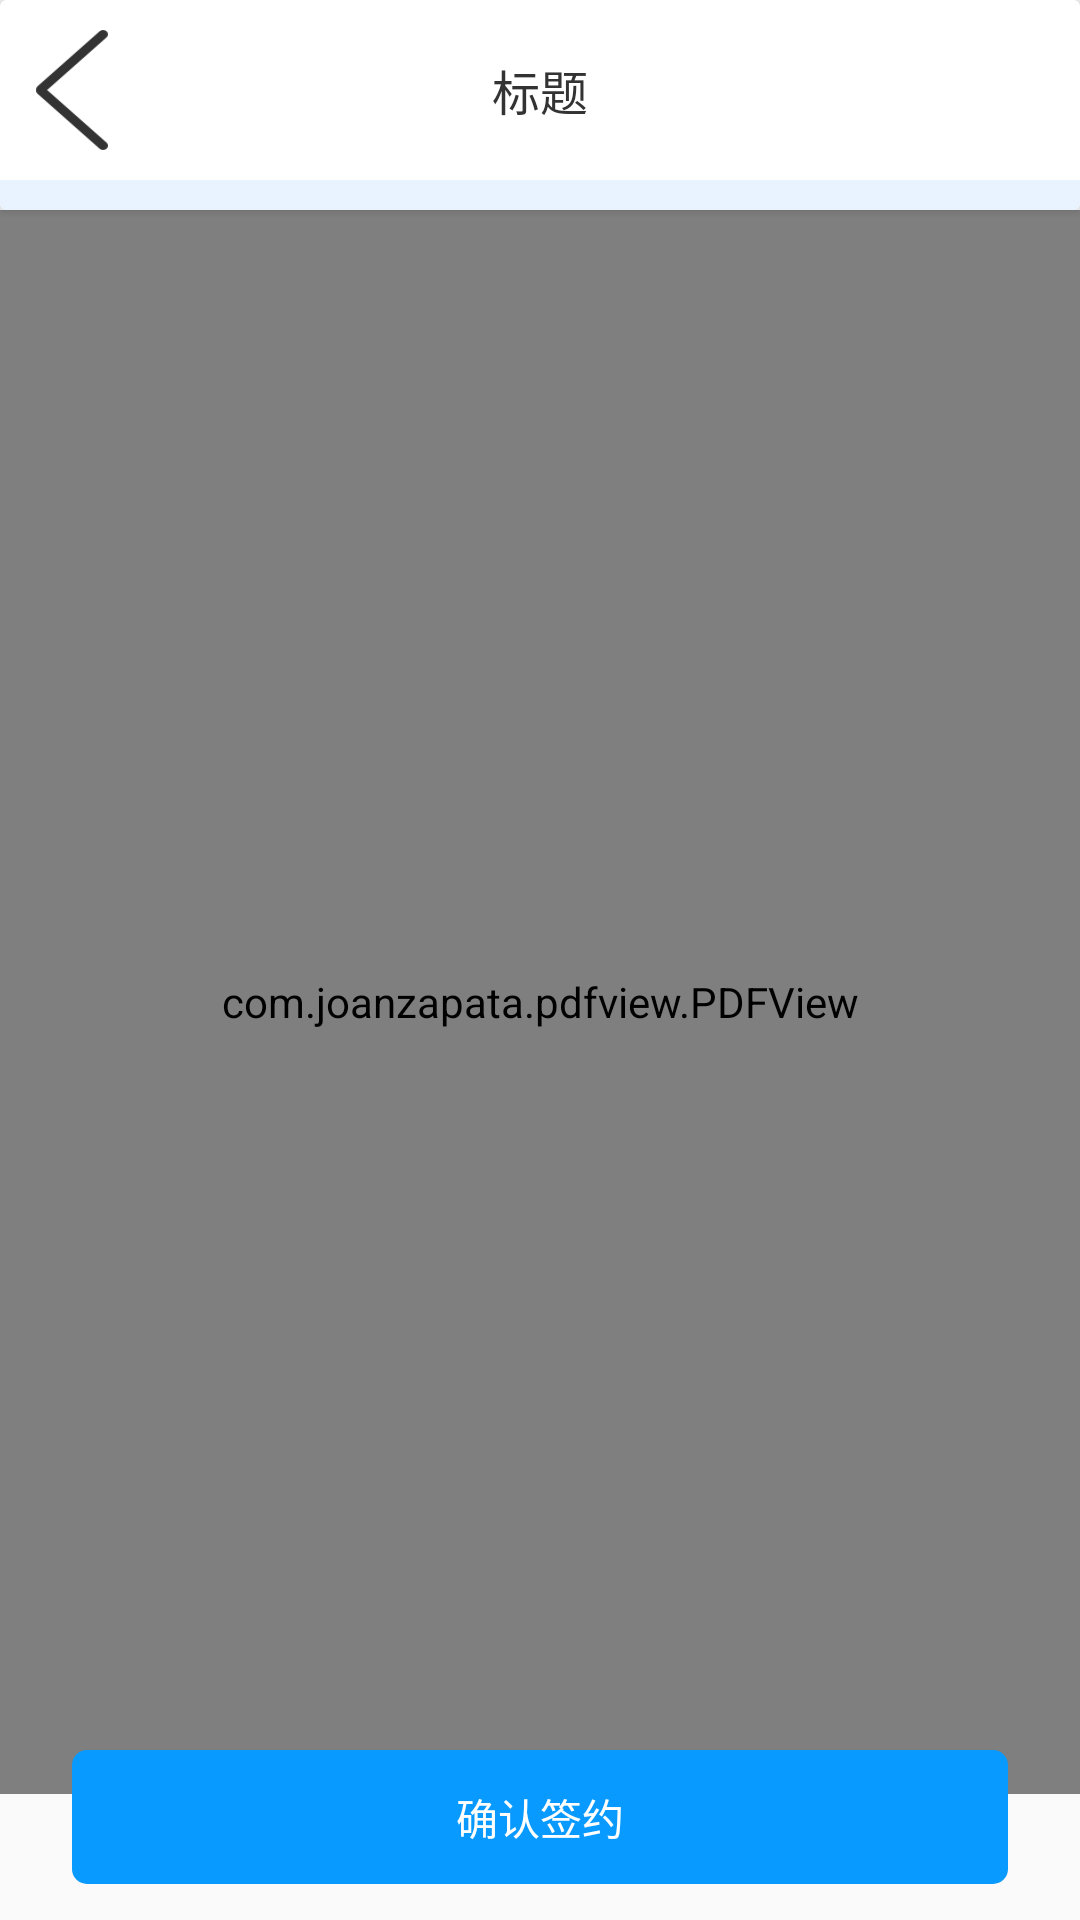

Locate icon controls on the screen. Image size 1080x1920, boxes as [x1, y1, x2, y2].
return: [36, 30, 108, 150]
